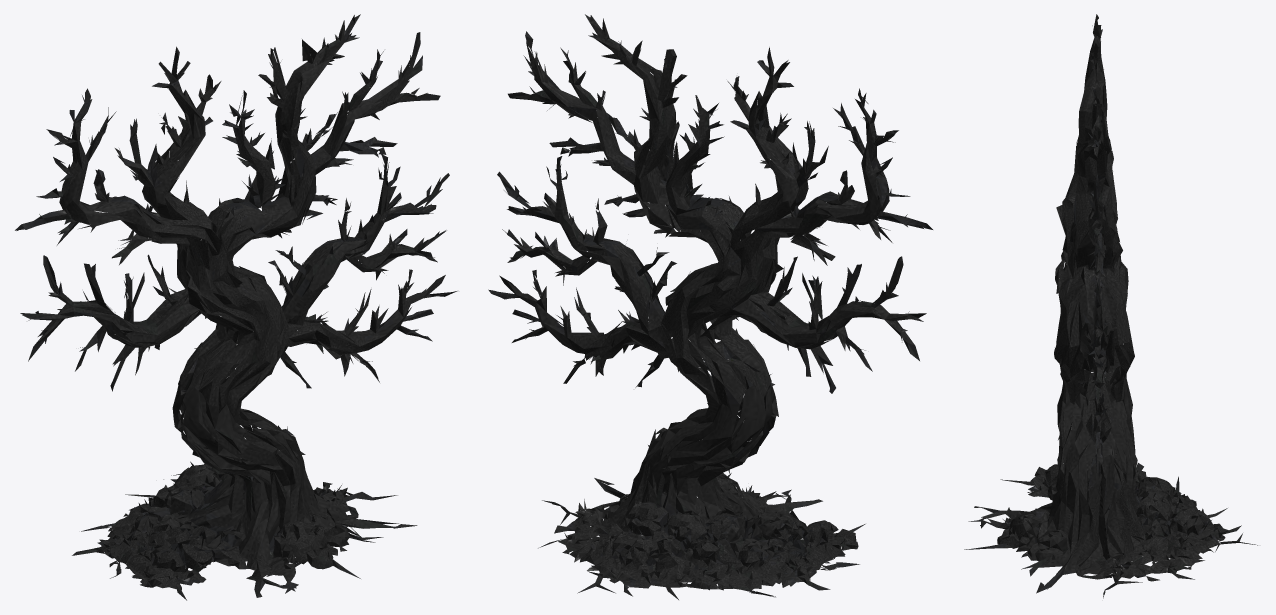
File: brambles.glb
3 views of the same model, side by side, from view 1: azimuth 30°, elevation 25°; view 2: azimuth 150°, elevation 25°; view 3: azimuth 270°, elevation 25° (orthographic). The views are drawn at different scales.
Visible parts, largest first — view 1: Mesh_0; view 2: Mesh_0; view 3: Mesh_0.
Part boxes in pixels (bbox=[...]): Mesh_0: bbox=[15, 14, 457, 600]; Mesh_0: bbox=[488, 14, 932, 599]; Mesh_0: bbox=[964, 14, 1257, 598].
Bounding box in the file's own units: 3.2 × 3.52 × 2.04.
Materials: 1 (1 with a texture image).
